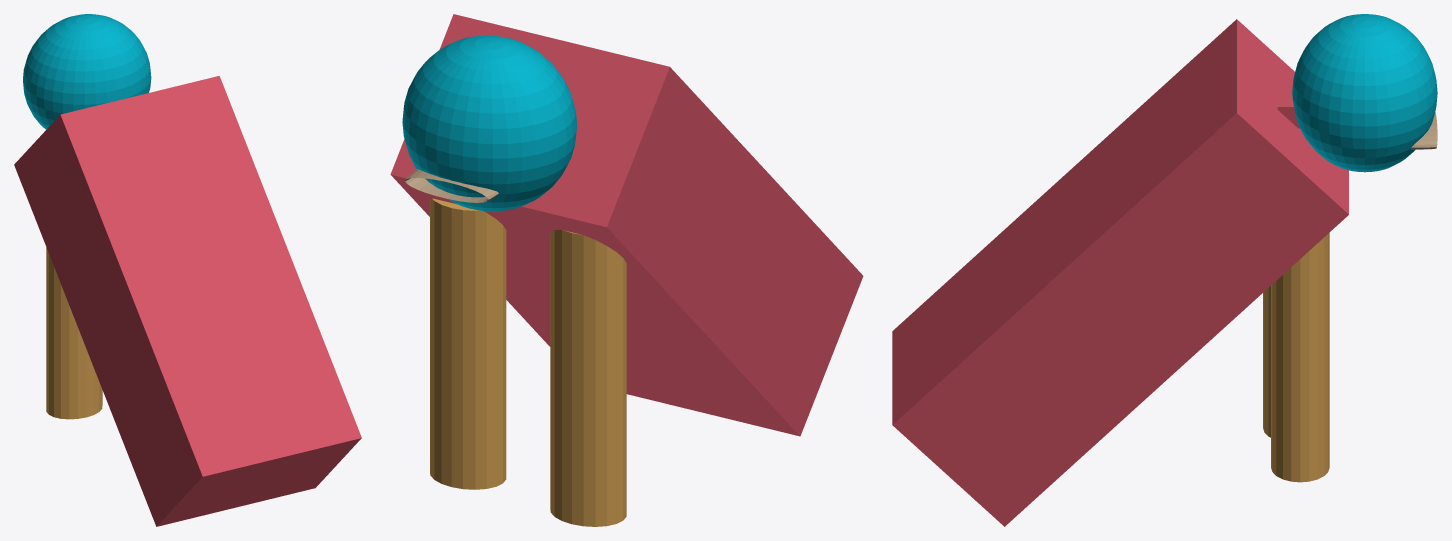
The model's file is monst.glb.
3 renders of one model, left to right at view 1: azimuth 30°, elevation 25°; view 2: azimuth 150°, elevation 25°; view 3: azimuth 270°, elevation 25°, orthographic. The views are drawn at different scales.
Visible parts, largest first — view 1: Mesh_Mesh_head_geo.001_lambert2SG.001; view 2: Mesh_Mesh_head_geo.001_lambert2SG.001; view 3: Mesh_Mesh_head_geo.001_lambert2SG.001.
Part boxes in pixels (box(x1,y1,x2,y2)): Mesh_Mesh_head_geo.001_lambert2SG.001: box(14, 14, 361, 526); Mesh_Mesh_head_geo.001_lambert2SG.001: box(390, 14, 863, 526); Mesh_Mesh_head_geo.001_lambert2SG.001: box(892, 14, 1437, 526).
Bounding box in the file's own units: 28 × 63.76 × 68.67.
